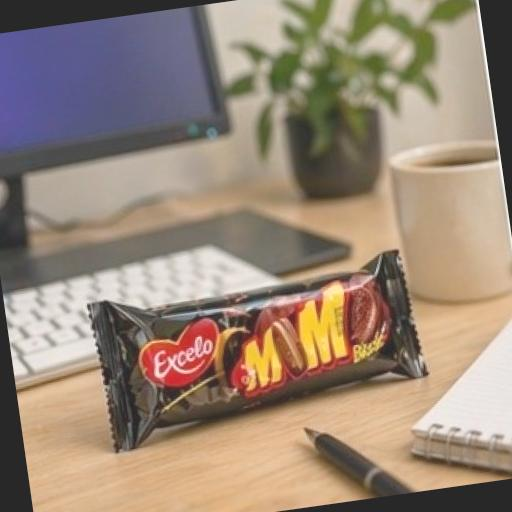MOMO: (80, 231, 443, 446)
